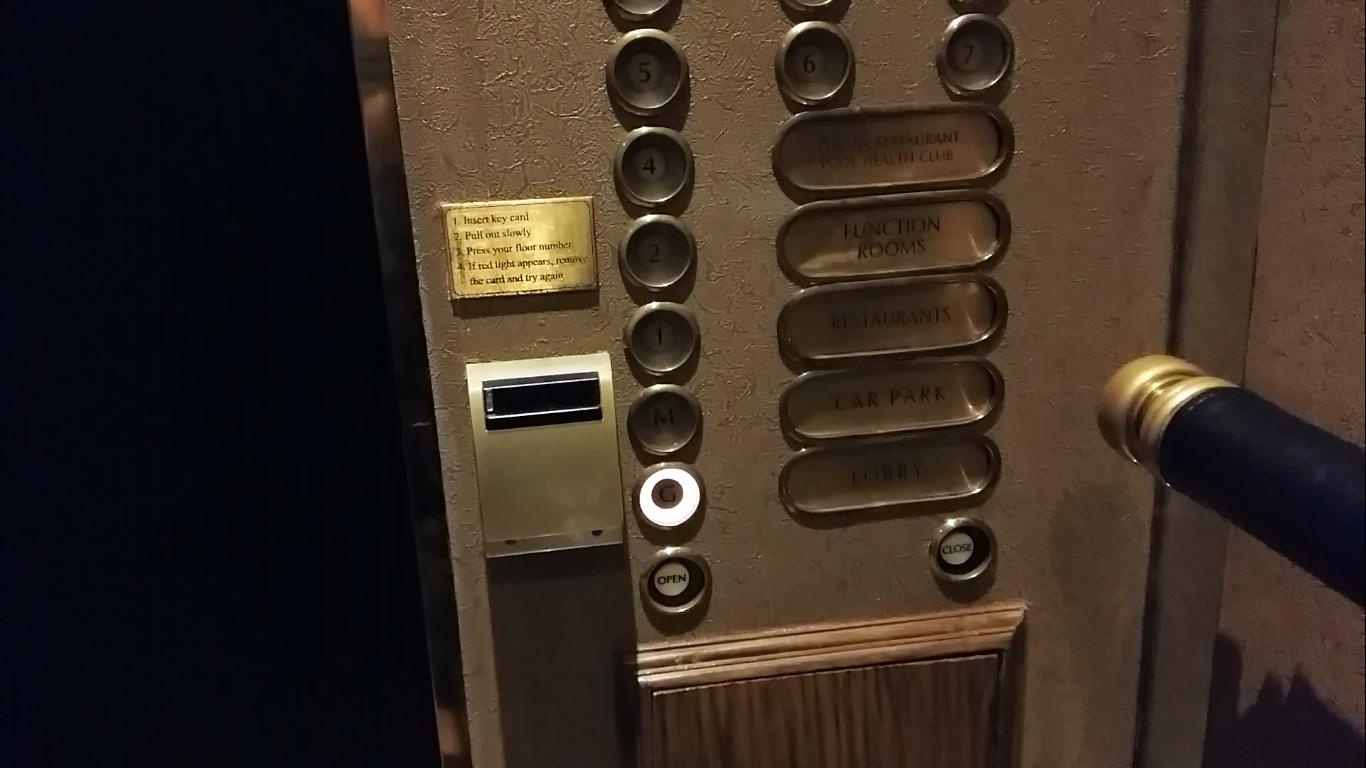1: (623, 302, 702, 377)
2: (617, 212, 694, 291)
4: (615, 127, 693, 206)
5: (605, 28, 689, 115)
6: (775, 19, 856, 106)
7: (935, 13, 1016, 97)
G: (631, 462, 705, 536)
M: (625, 382, 702, 457)
text: (925, 514, 1003, 585)
text_open: (642, 548, 712, 615)
